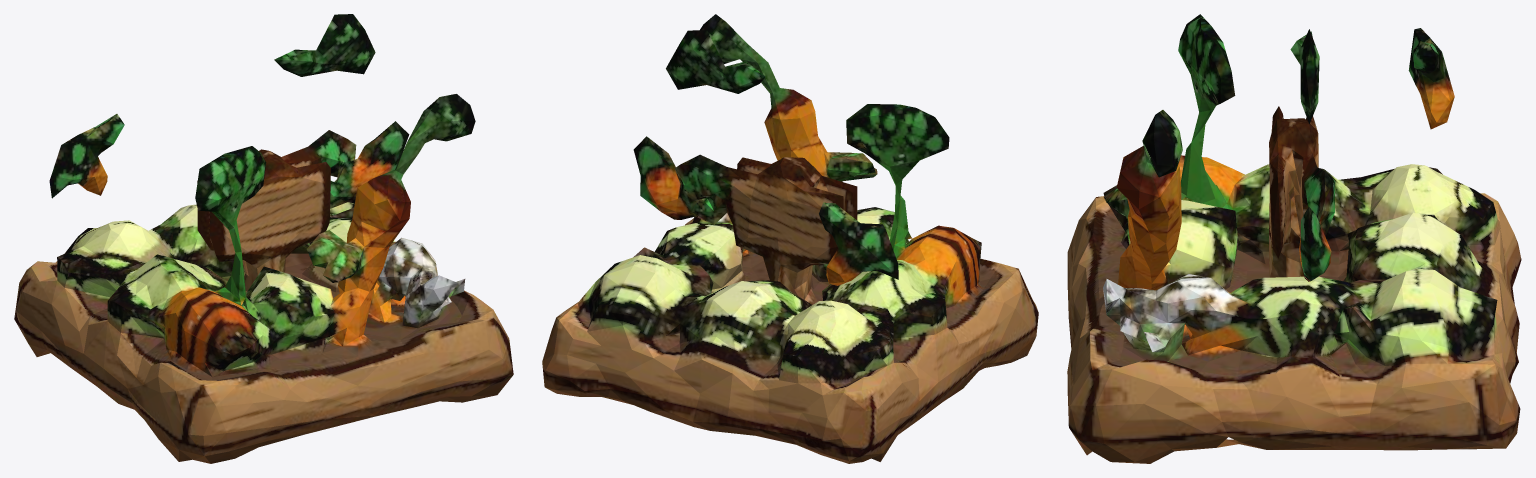
The model's file is korkuluk_tarla.glb.
The picture shows the model from 3 angles, left to right: view 1: azimuth 30°, elevation 25°; view 2: azimuth 150°, elevation 25°; view 3: azimuth 270°, elevation 25°; orthographic projection. The views are drawn at different scales.
Parts seen in each view (by area): view 1: geometry_0; view 2: geometry_0; view 3: geometry_0.
Part boxes in pixels (<box>): geometry_0: <box>14,14,513,463</box>; geometry_0: <box>542,14,1038,463</box>; geometry_0: <box>1067,14,1521,463</box>.
Size of the model in its own units: 1.01 by 0.9625 by 1.02.
Materials: 1 (1 with a texture image).
